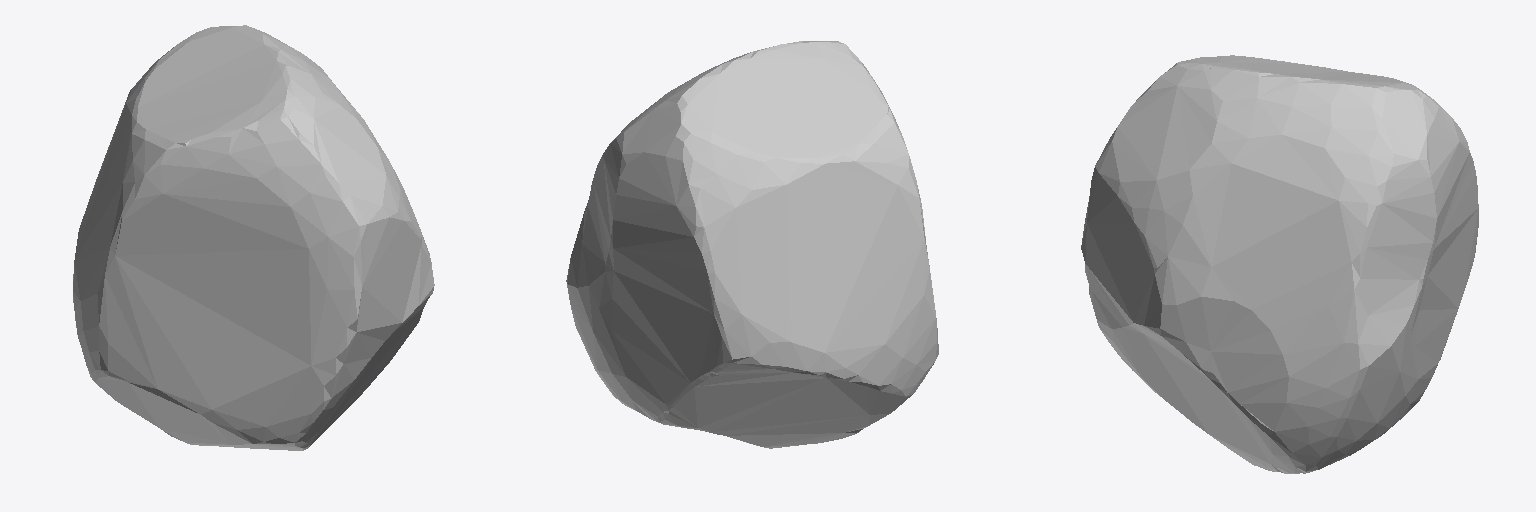
The model's file is sea_stone.obj.
3 renders of one model, left to right at view 1: azimuth 30°, elevation 25°; view 2: azimuth 150°, elevation 25°; view 3: azimuth 270°, elevation 25°, orthographic.
Visible parts, largest first — view 1: Cube; view 2: Cube; view 3: Cube.
Part boxes in pixels (x1,y1,x2,y2): Cube: (73, 25, 434, 450); Cube: (566, 41, 938, 448); Cube: (1081, 55, 1478, 473).
Bounding box in the file's own units: 9.72 × 11 × 10.28.